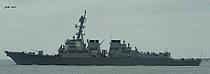MIL_Ship: (3, 9, 203, 67)
